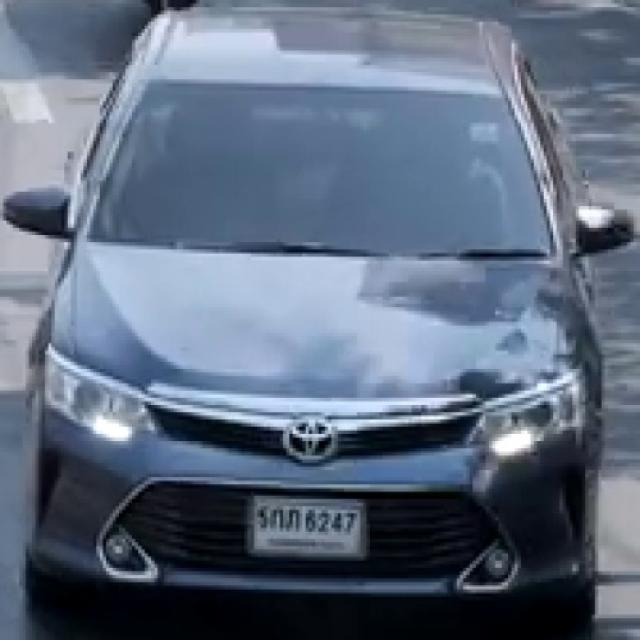plate: (253, 497, 358, 558)
